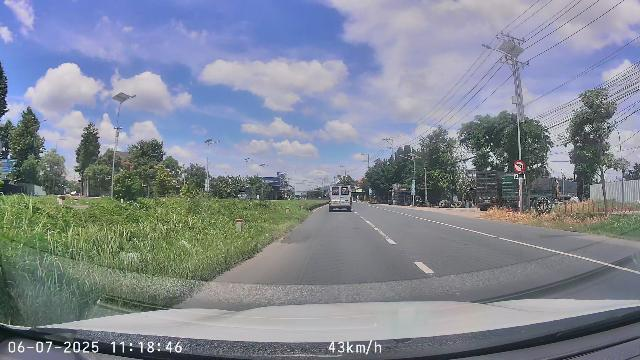123a-cam-re-trai: (514, 160, 525, 173)
